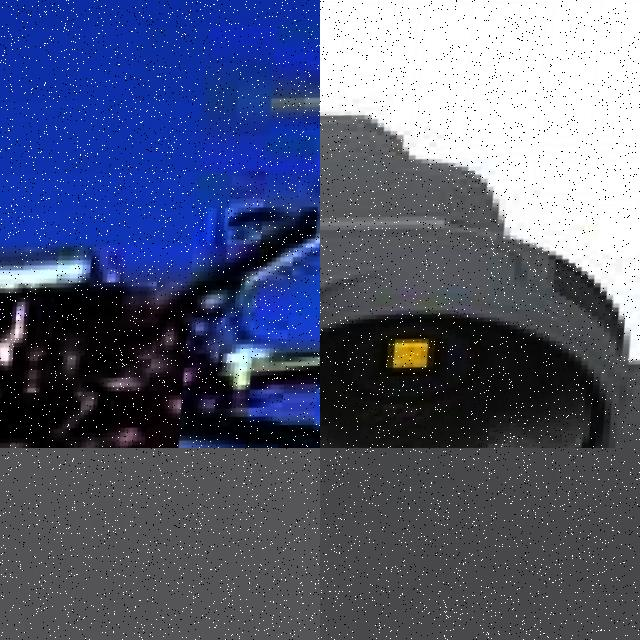0: (0, 0, 320, 448)
drone: (320, 1, 640, 448)
